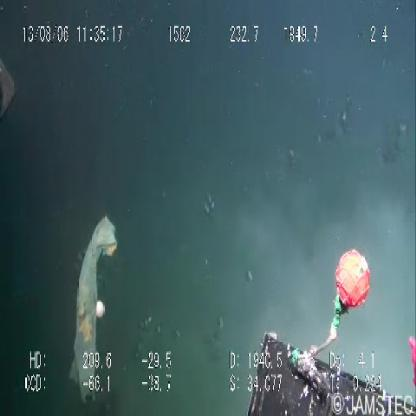Rov: (234, 229, 415, 415), (1, 45, 20, 137)
Rác: (60, 206, 130, 414)
